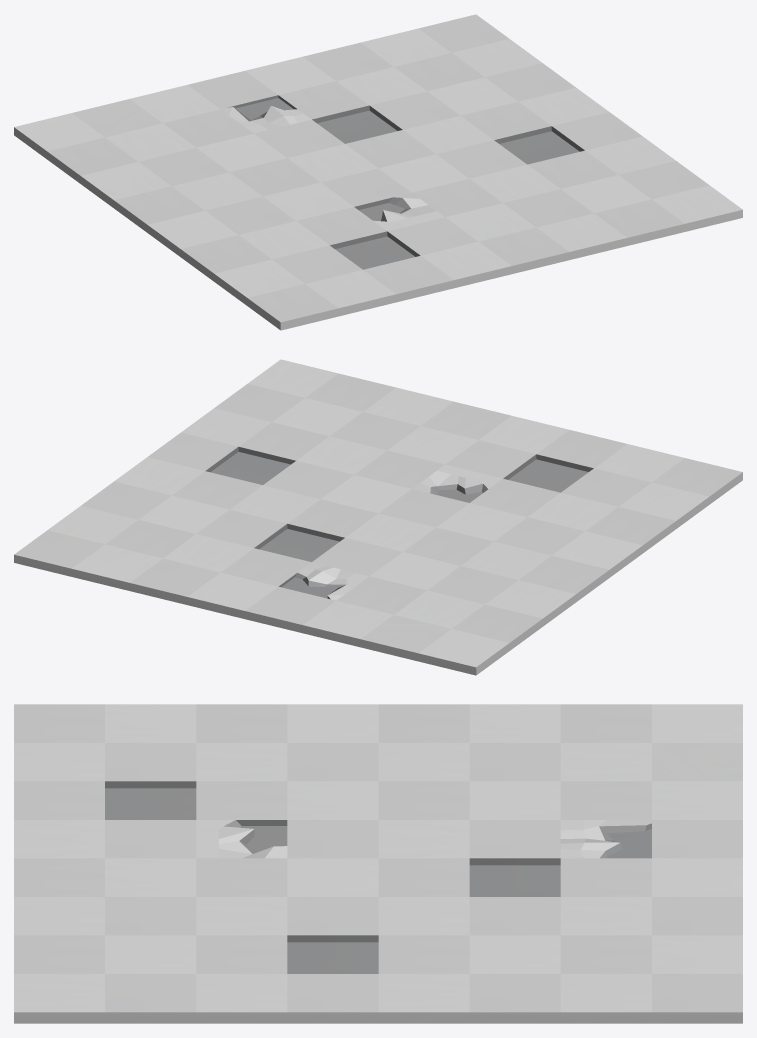
File: floor_tile_1.glb
The picture shows the model from 3 angles, top to bottom: view 1: azimuth 30°, elevation 25°; view 2: azimuth 150°, elevation 25°; view 3: azimuth 270°, elevation 25°; orthographic projection. The views are drawn at different scales.
Visible parts, largest first — view 1: floor_tile_1; view 2: floor_tile_1; view 3: floor_tile_1.
Part boxes in pixels (x1,y1,x2,y2): floor_tile_1: (14,14,742,330); floor_tile_1: (14,359,742,675); floor_tile_1: (14,704,742,1023).
Size of the model in its own units: 3.51 by 0.0766 by 3.51.
1 material, 1 textured.
